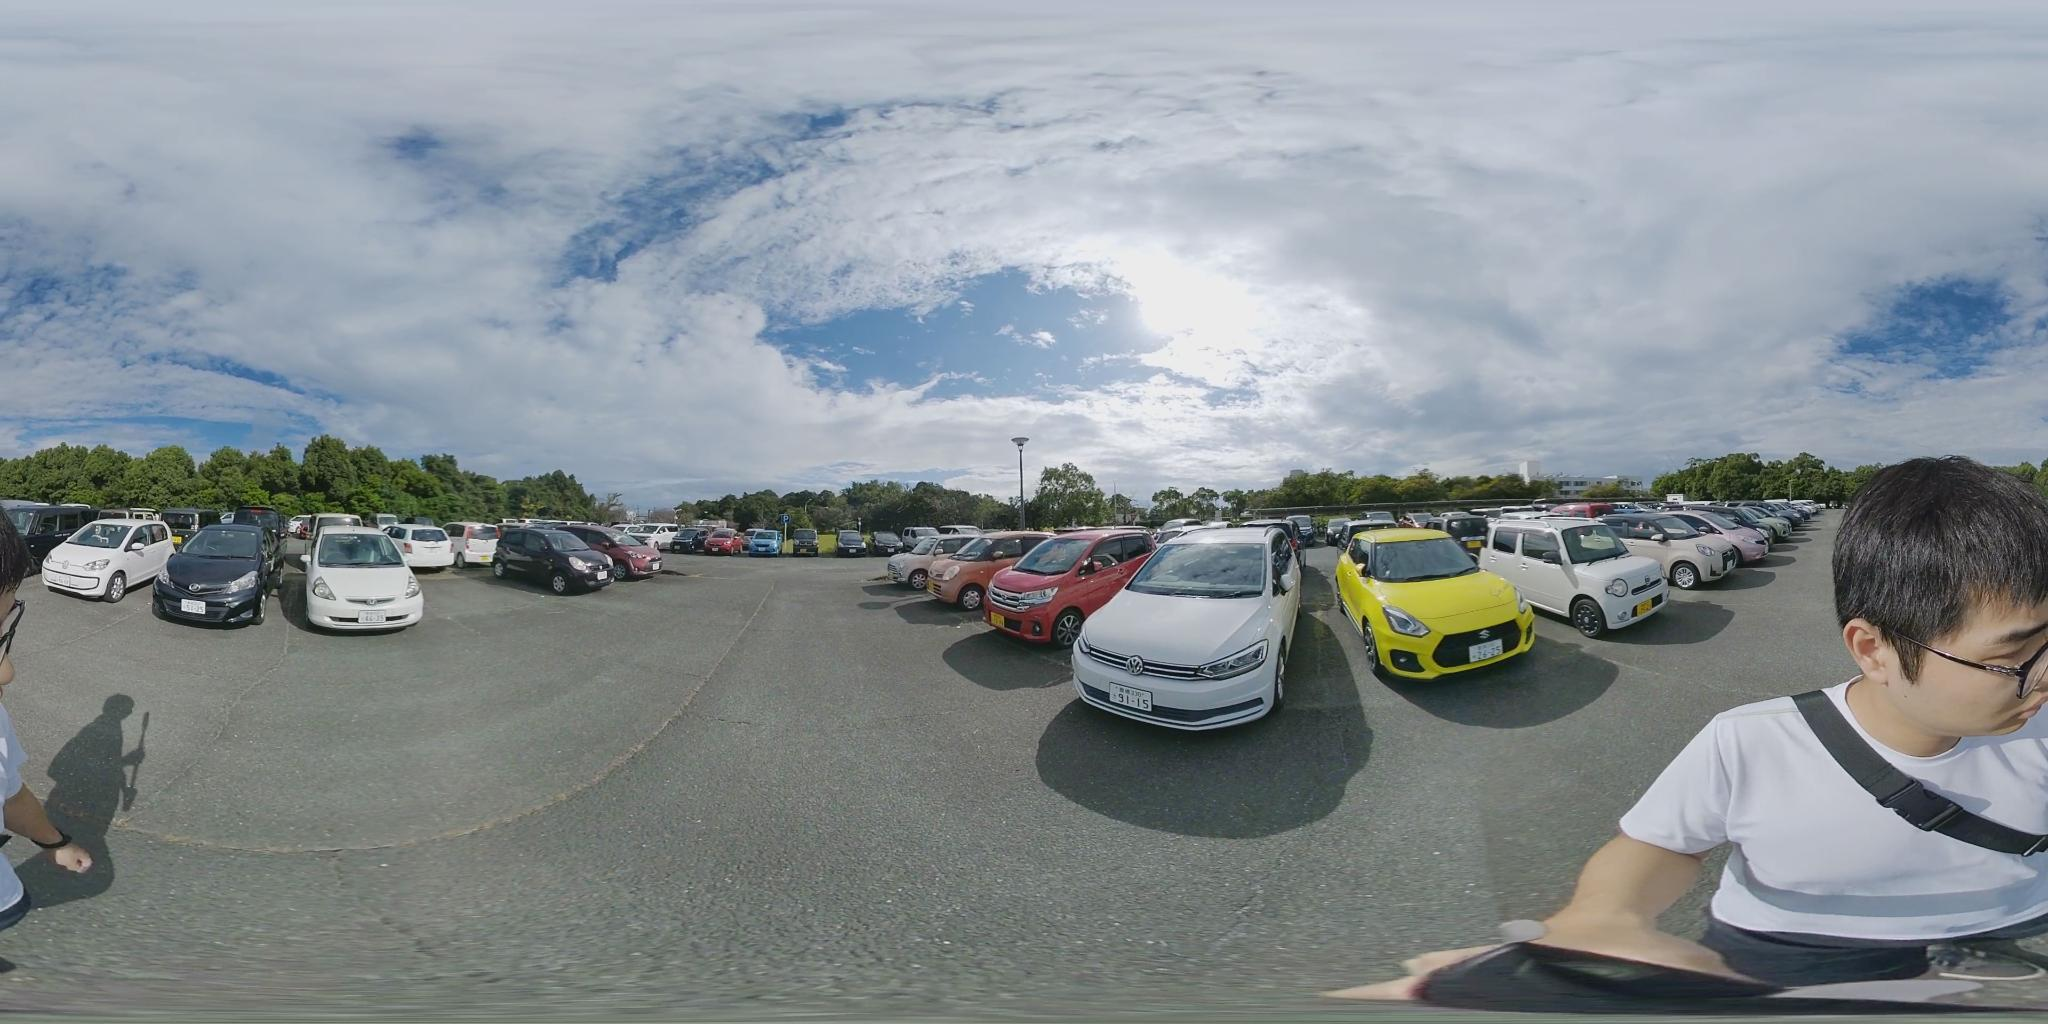car: (1067, 522, 1310, 731), (1332, 521, 1540, 683), (1451, 515, 1674, 640), (965, 530, 1161, 647), (1562, 509, 1768, 589), (291, 529, 435, 636), (149, 520, 270, 635), (43, 517, 183, 601), (910, 536, 1068, 607), (488, 526, 622, 596), (1669, 503, 1782, 559), (590, 528, 669, 579), (383, 525, 456, 572), (1738, 500, 1822, 529), (743, 532, 785, 556)
